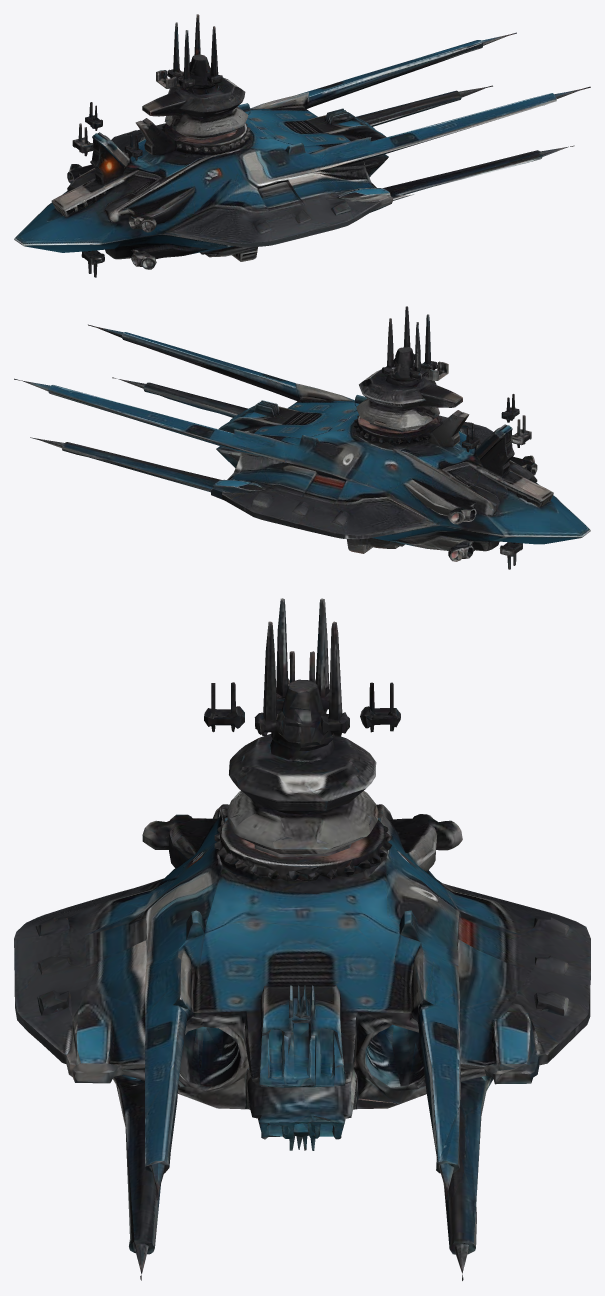
The model's file is enemy-neptune-capital.glb.
3 views of the same model, one above another, from view 1: azimuth 30°, elevation 25°; view 2: azimuth 150°, elevation 25°; view 3: azimuth 270°, elevation 25° (orthographic). The views are drawn at different scales.
Size of the model in its own units: 1.9 by 0.7824 by 0.9012.
Materials: 1 (1 with a texture image).
